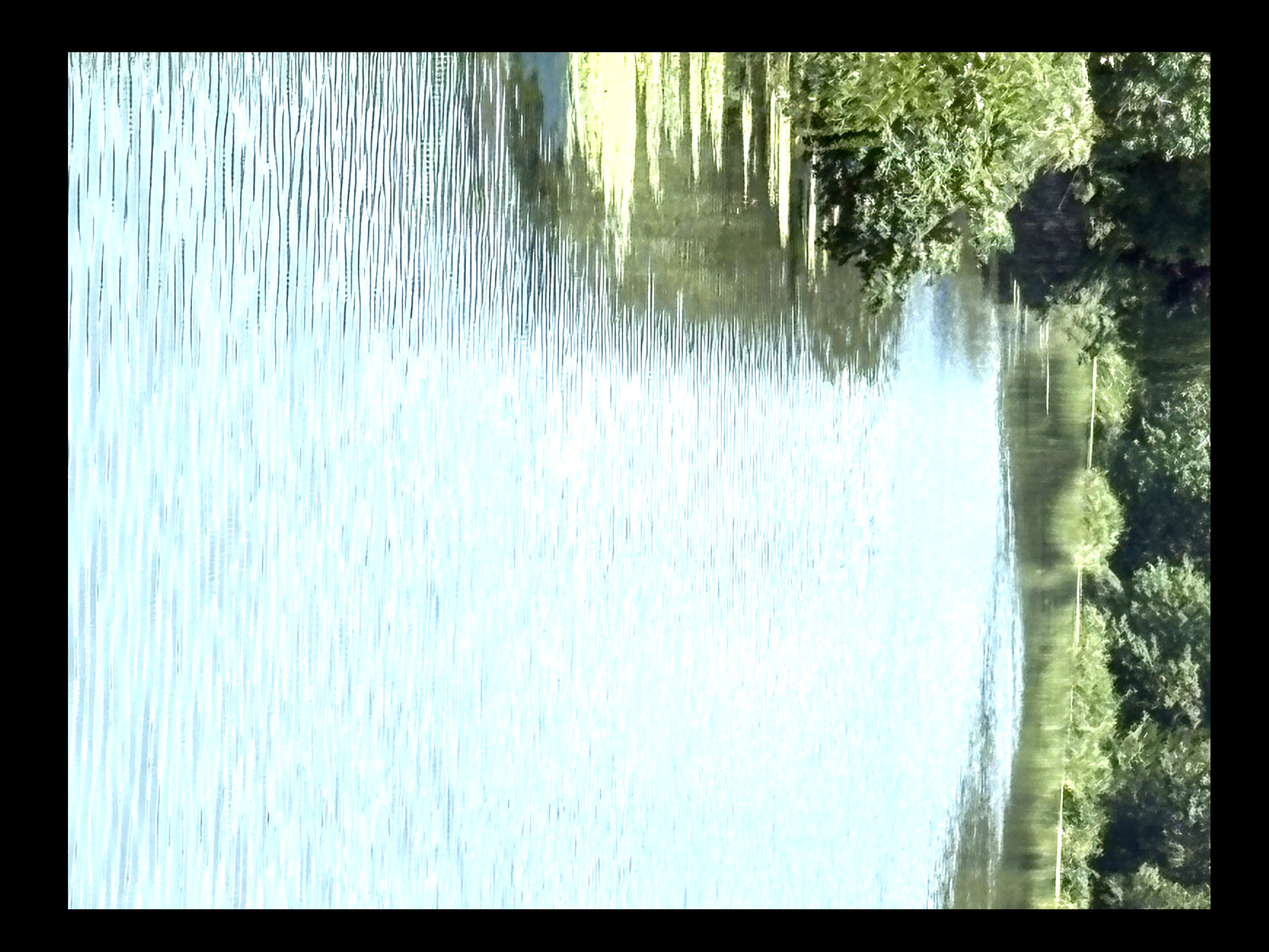Other: (977, 42, 1047, 172), (1050, 39, 1090, 162), (1168, 109, 1197, 228), (1098, 41, 1131, 144)
Plastic wastes: (1239, 354, 1256, 426)
